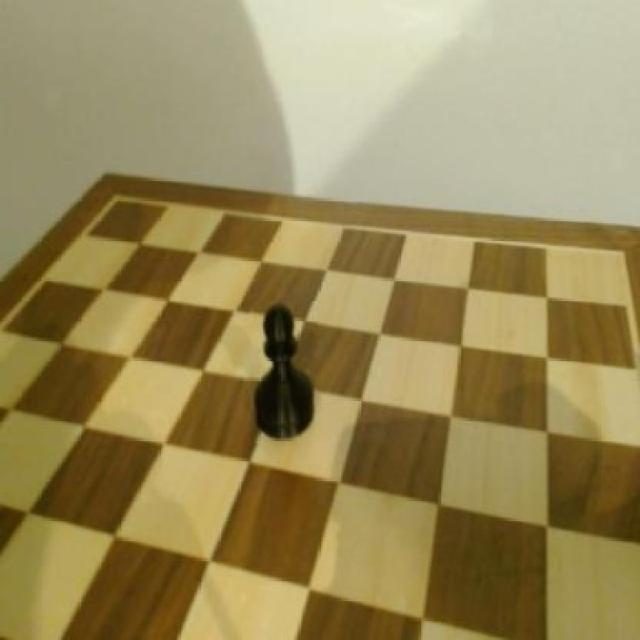black-knight: (251, 302, 318, 444)
